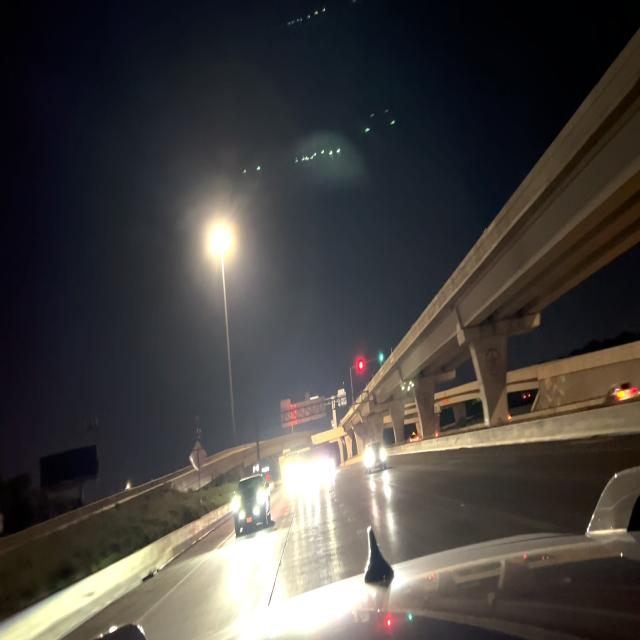back-of-sign: (279, 394, 328, 428), (187, 436, 210, 475)
